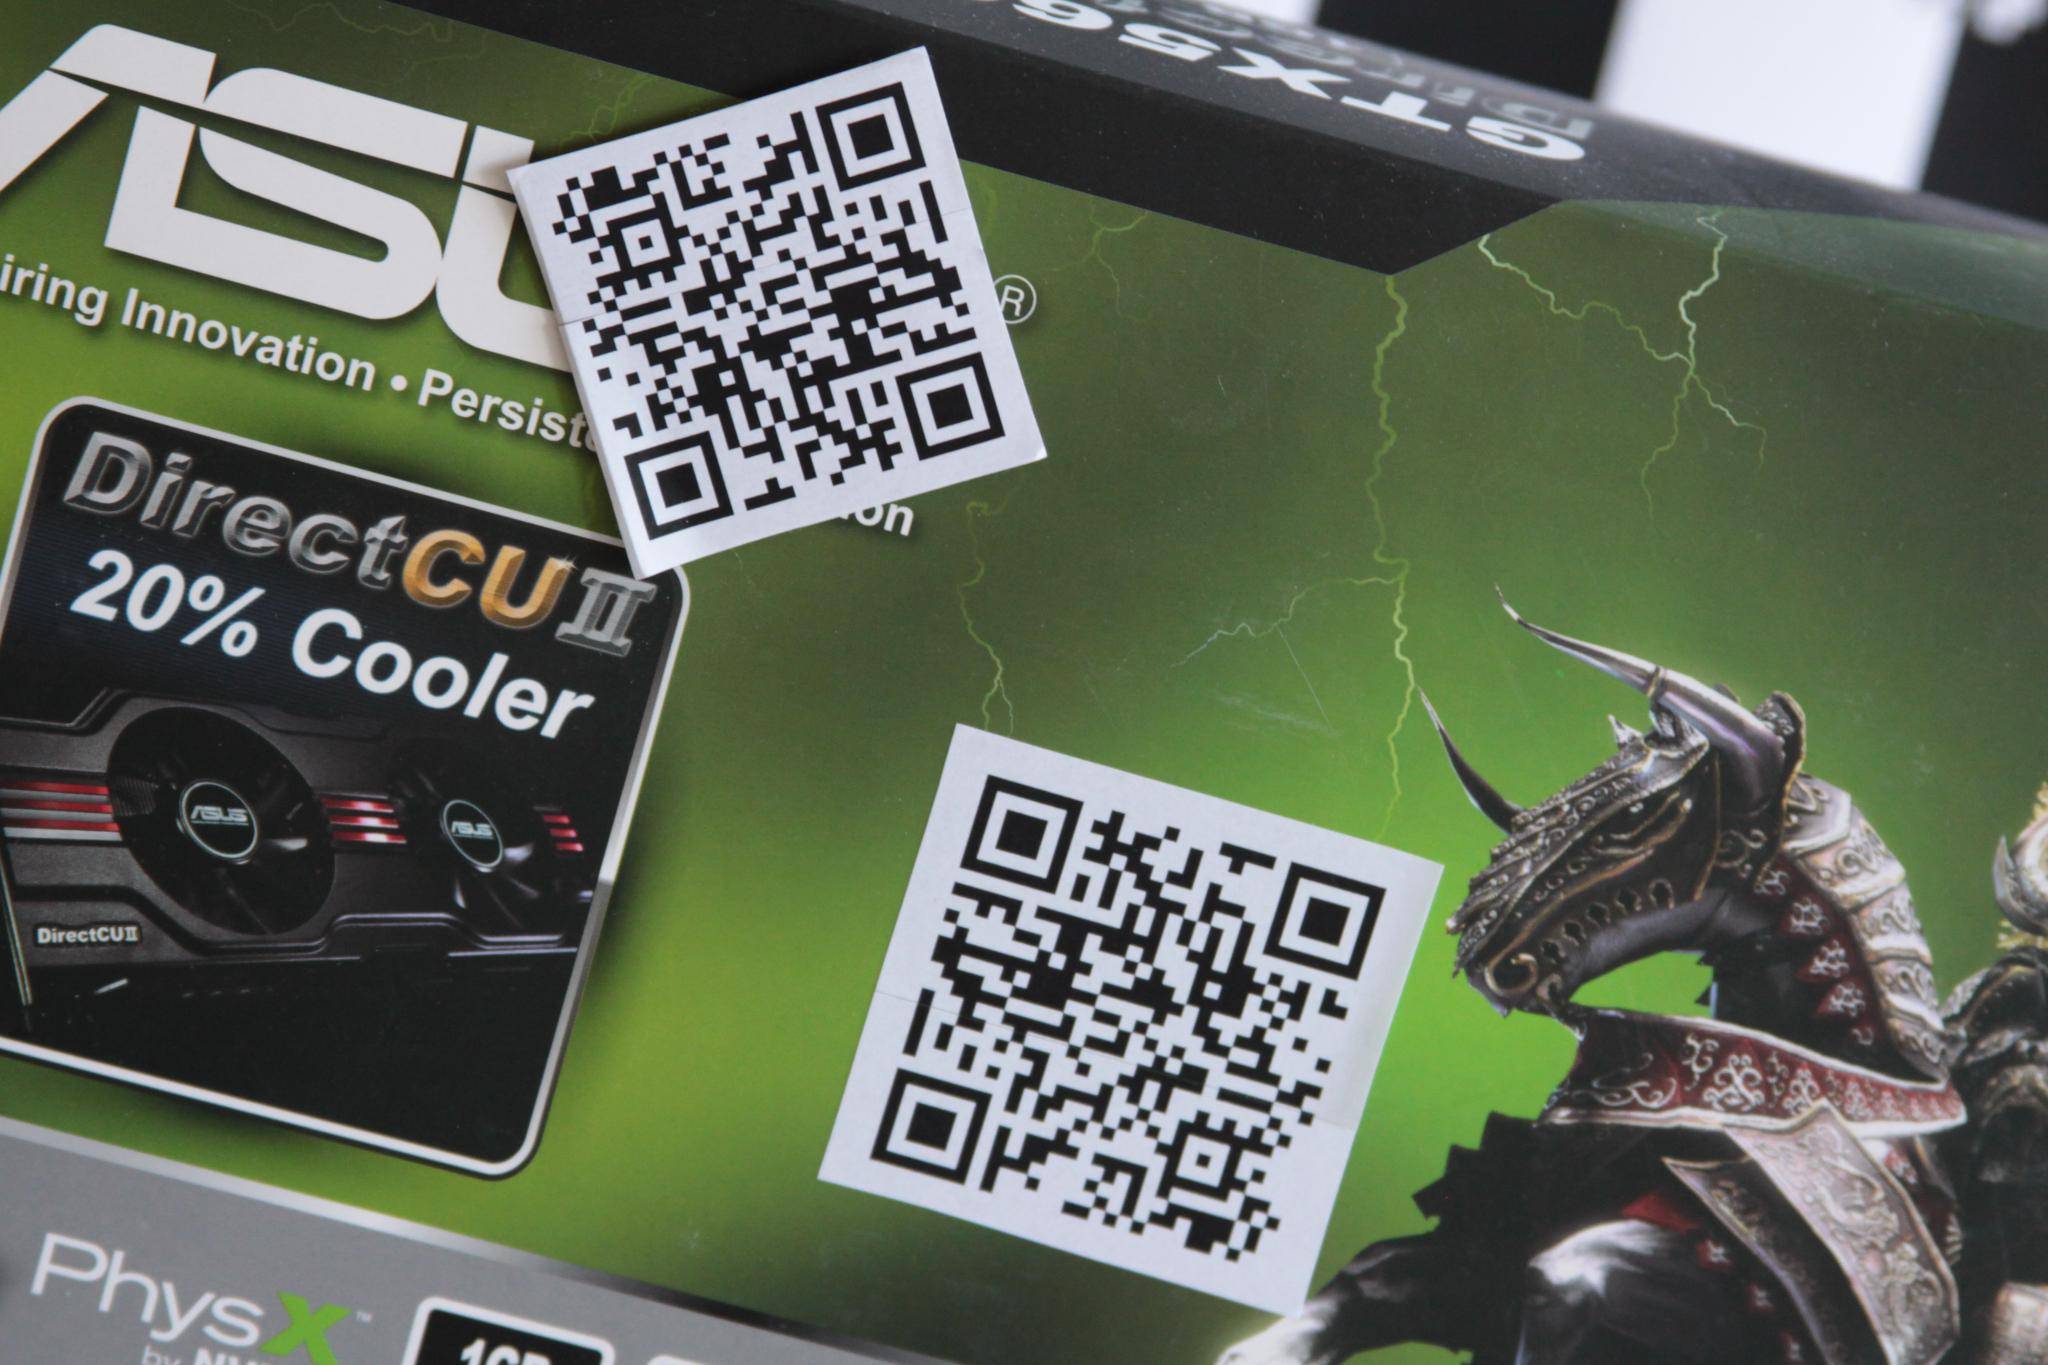Finder pattern: (859, 1060, 997, 1194), (1265, 855, 1389, 987), (965, 766, 1086, 894), (807, 78, 930, 200), (892, 349, 1019, 463), (621, 431, 738, 547)
